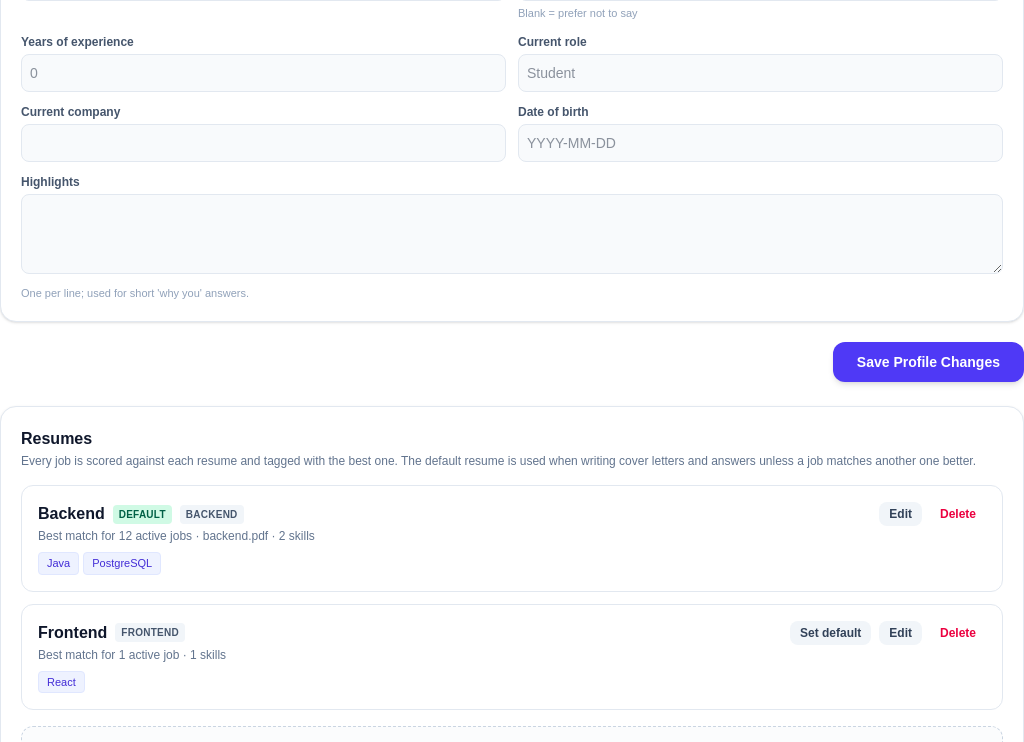
Test: ProfileManager › shows save errors inline
(page scrolled)
Step 1. Click the button "Save Profile Changes" → x=928, y=362, box [833,342,1023,382]
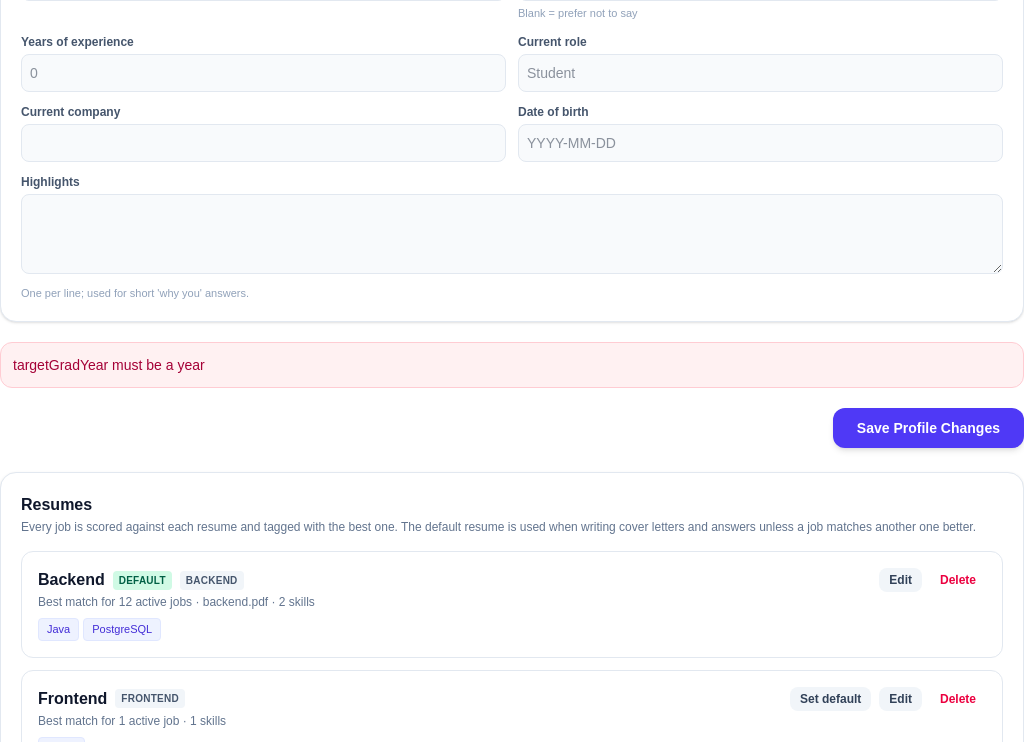
Result: the text "targetGradYear must be a year" is shown at [0,342,1023,388]
